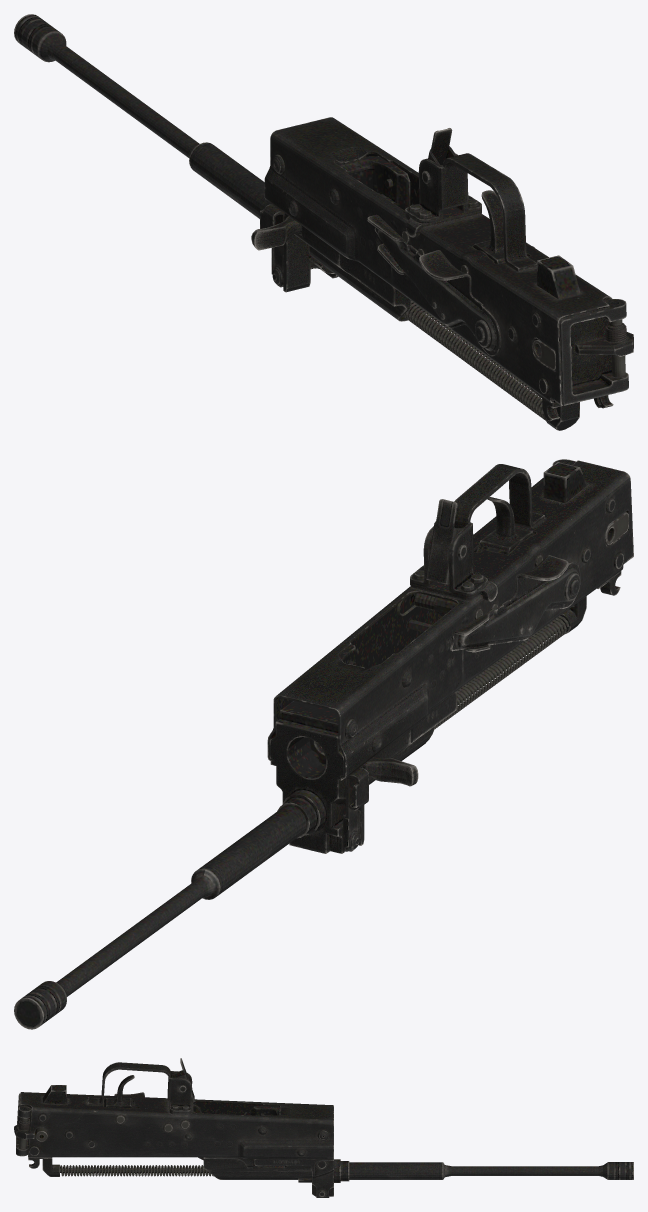
3 renders of one model, top to bottom at view 1: azimuth 30°, elevation 25°; view 2: azimuth 150°, elevation 25°; view 3: azimuth 270°, elevation 25°, orthographic. The views are drawn at different scales.
Parts seen in each view (by area): view 1: TW_5beed0f50db834001c062b12_PZ_Import; view 2: TW_5beed0f50db834001c062b12_PZ_Import; view 3: TW_5beed0f50db834001c062b12_PZ_Import.
Part boxes in pixels (x1,y1,x2,y2): TW_5beed0f50db834001c062b12_PZ_Import: (14,14,633,430); TW_5beed0f50db834001c062b12_PZ_Import: (14,459,633,1029); TW_5beed0f50db834001c062b12_PZ_Import: (14,1058,633,1197).
Size of the model in its own units: 0.0383 by 0.294 by 0.0697.
Materials: 1 (1 with a texture image).
